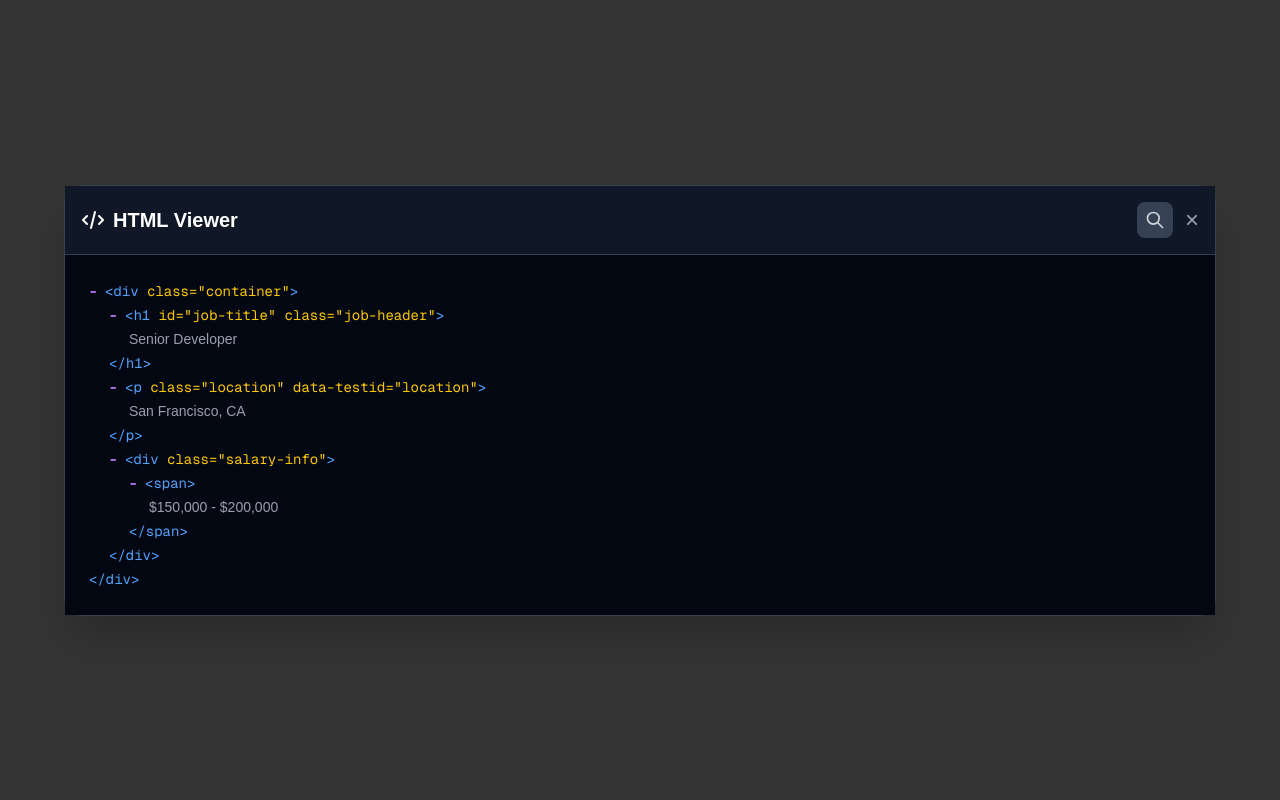
Test: HtmlViewer › context menu › should show context menu on right-click of element
Right-click the element showing "- <h1 id=\"job-title\" class=\"job-header\">" at (277,314), box left=109, top=306, right=444, bottom=324
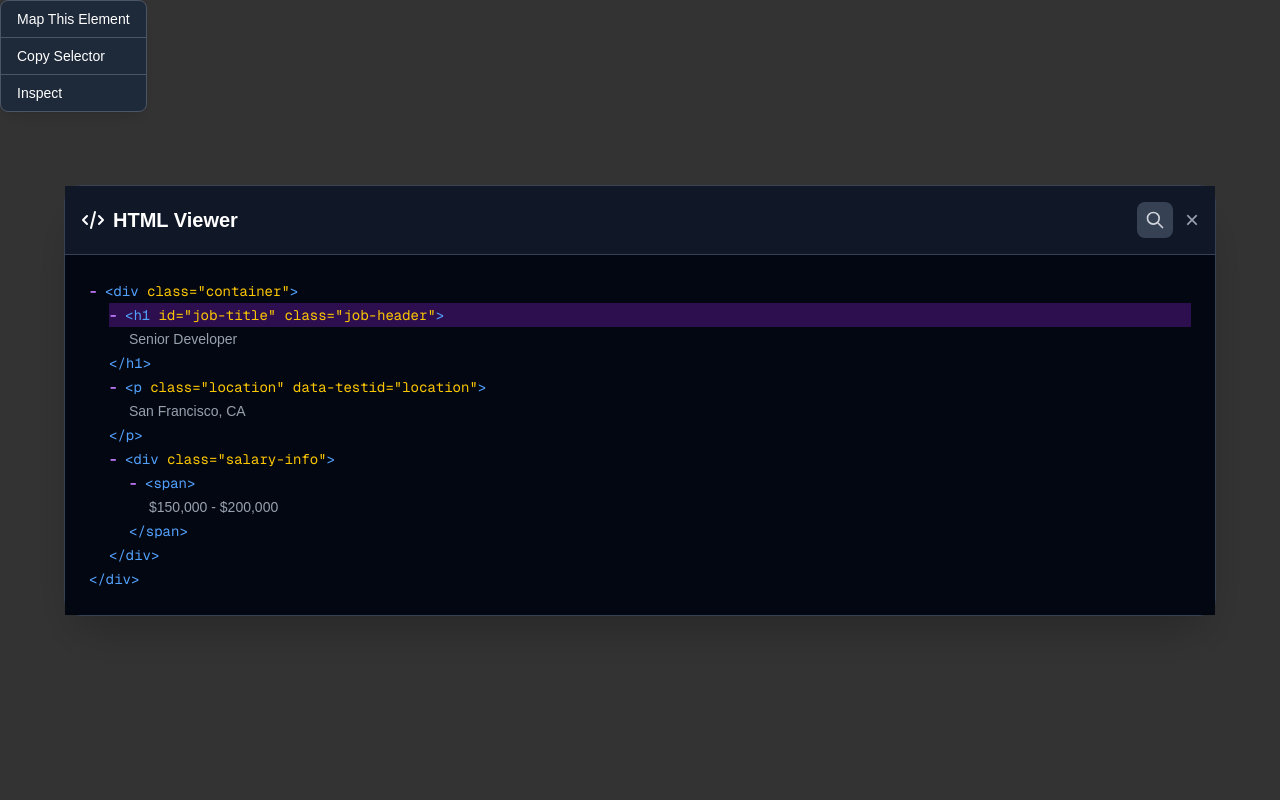
Now the button "Map This Element" is shown, box left=1, top=1, right=146, bottom=37
